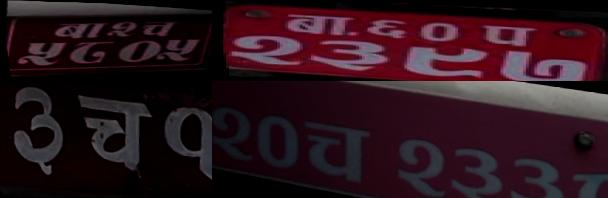0: (250, 102, 305, 171), (112, 37, 164, 63), (412, 20, 457, 40)
2: (384, 123, 452, 198), (212, 93, 259, 166), (218, 33, 305, 65), (104, 19, 136, 36)
3: (153, 96, 212, 180), (441, 132, 507, 198), (499, 143, 573, 198), (300, 37, 385, 70)
5: (15, 39, 62, 65), (157, 36, 203, 61)
6: (358, 16, 409, 38)
7: (490, 48, 592, 81)
8: (560, 151, 608, 198), (65, 37, 111, 64)
9: (68, 89, 156, 174), (392, 43, 493, 76)
ba: (3, 81, 69, 174), (275, 12, 361, 37), (48, 19, 104, 38)
cha: (294, 110, 375, 187), (141, 18, 178, 36)
pa: (473, 22, 536, 47)
